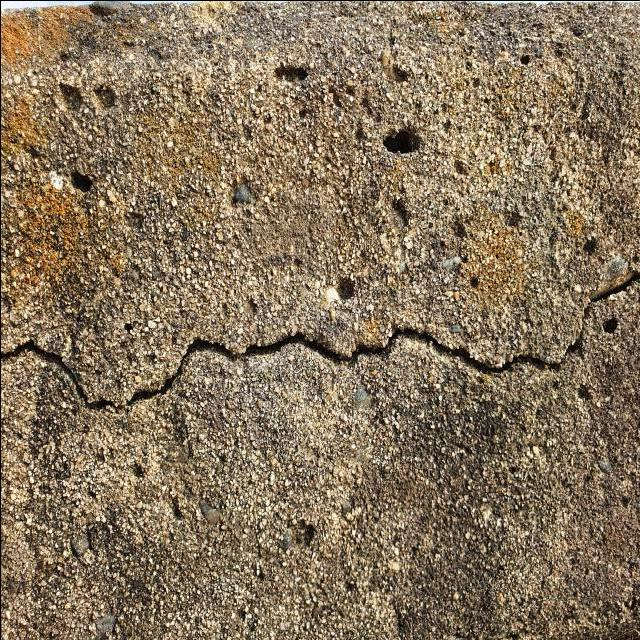SurfaceCrack: (0, 250, 639, 460)
